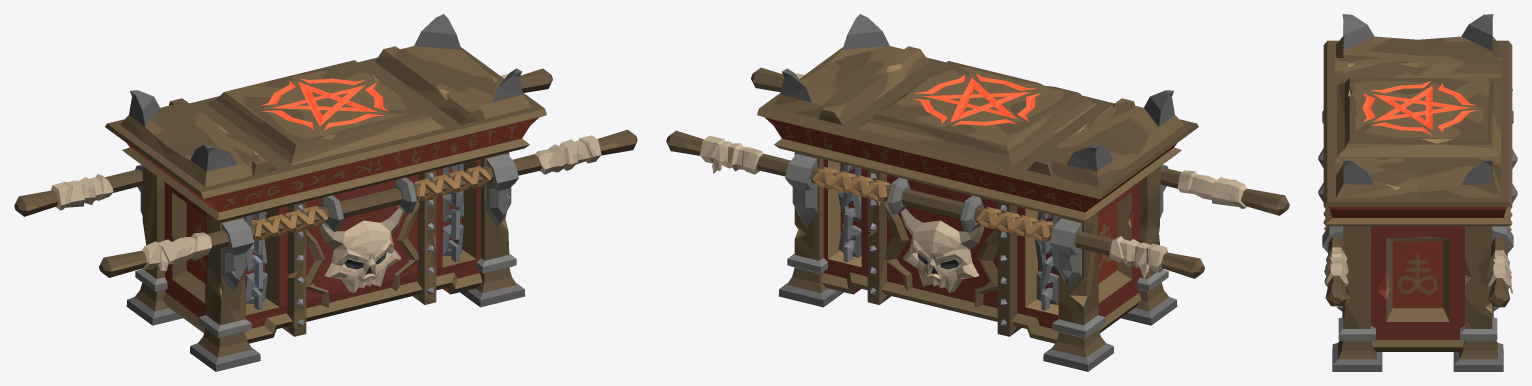
The model's file is crypt_tabernacle.gltf.
3 renders of one model, left to right at view 1: azimuth 30°, elevation 25°; view 2: azimuth 150°, elevation 25°; view 3: azimuth 270°, elevation 25°, orthographic. The views are drawn at different scales.
Parts seen in each view (by area): view 1: crypt_tabernacle; view 2: crypt_tabernacle; view 3: crypt_tabernacle.
Boxes of the visible parts, <box> form: crypt_tabernacle: <box>14,14,637,371</box>; crypt_tabernacle: <box>666,14,1289,371</box>; crypt_tabernacle: <box>1318,14,1517,371</box>.
Size of the model in its own units: 3.65 by 1.44 by 1.23.
Materials: 1 (1 with a texture image).
